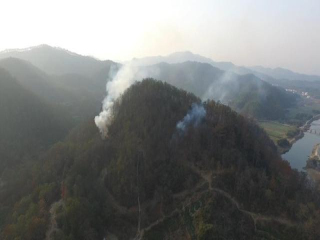smoke: (92, 54, 151, 135), (174, 76, 229, 141)
